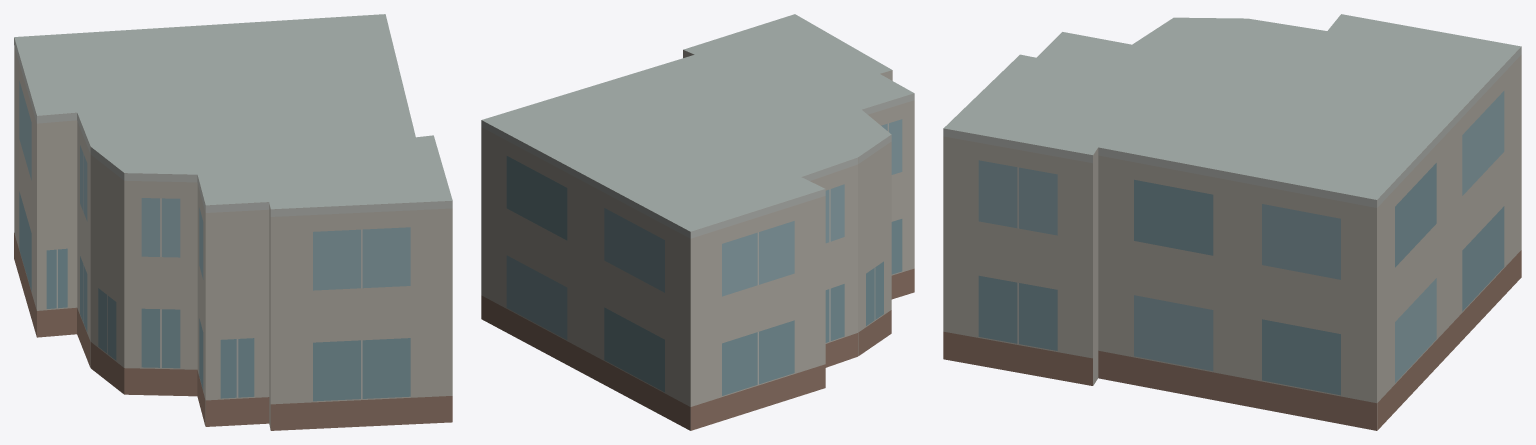
The model's file is survey-upis-32499412.glb.
3 renders of one model, left to right at view 1: azimuth 30°, elevation 25°; view 2: azimuth 150°, elevation 25°; view 3: azimuth 270°, elevation 25°, orthographic. The views are drawn at different scales.
Visible parts, largest first — view 1: survey-upis-32499412.tmp; view 2: survey-upis-32499412.tmp; view 3: survey-upis-32499412.tmp.
Boxes of the visible parts, x1,y1,x2,y2 form: survey-upis-32499412.tmp: (14, 14, 452, 430); survey-upis-32499412.tmp: (481, 14, 914, 430); survey-upis-32499412.tmp: (943, 14, 1521, 430).
Size of the model in its own units: 12.11 by 7 by 15.9.
